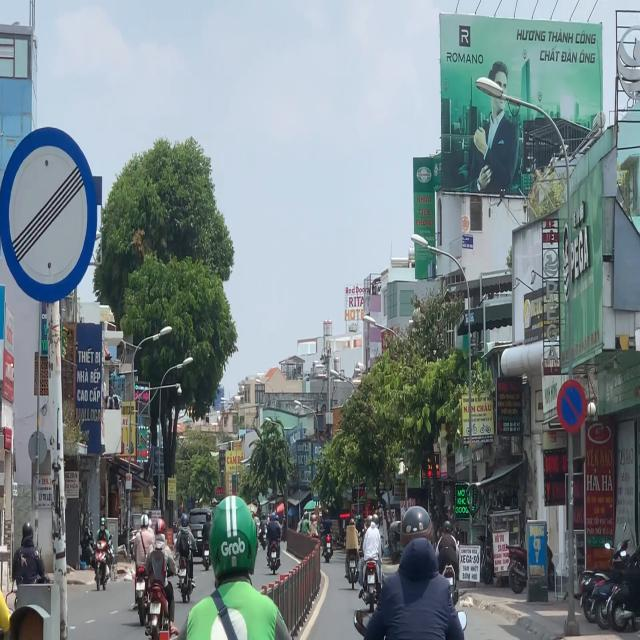Cam do: (556, 379, 586, 433)
Het tat ca lenh cam: (0, 126, 98, 306)
